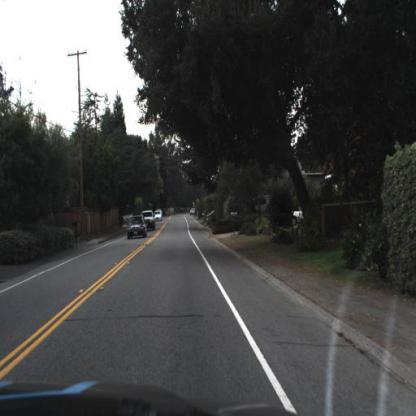car: (126, 215, 146, 242), (289, 203, 307, 228), (142, 209, 155, 230), (154, 211, 162, 223)
